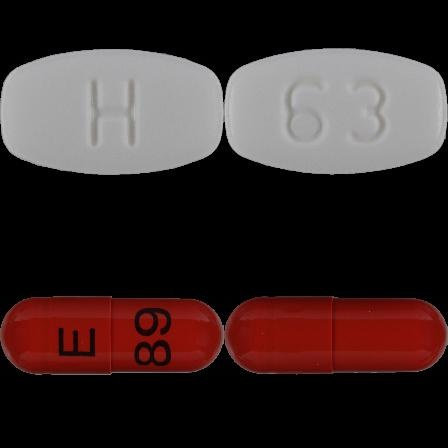65862-663: (0, 0, 224, 224)
